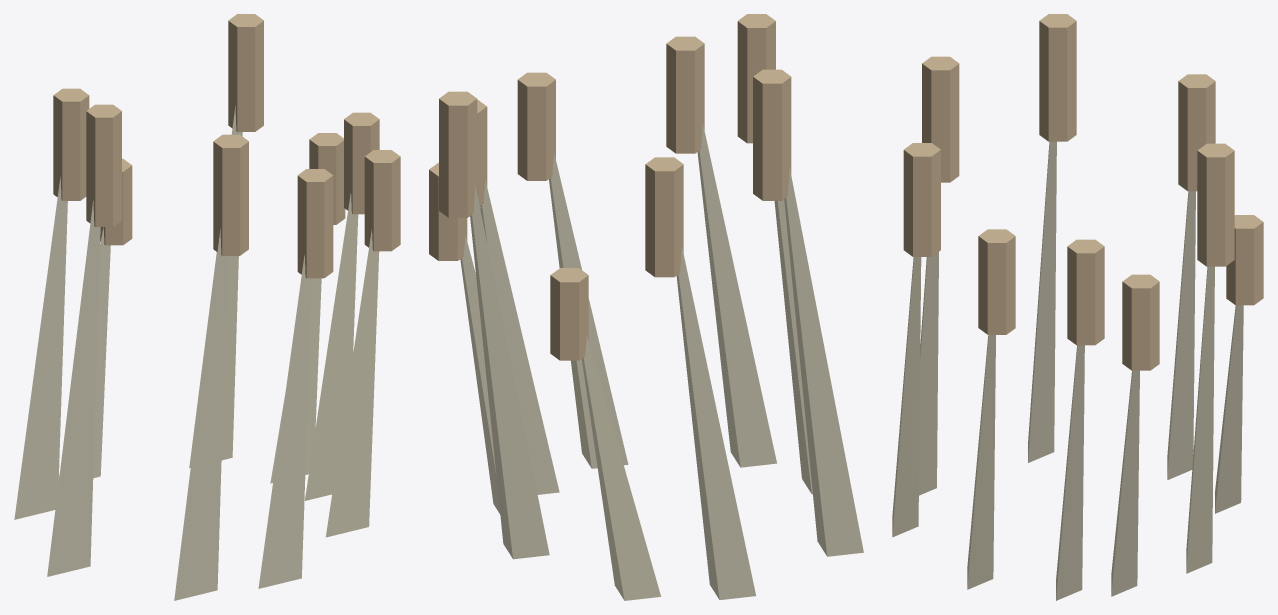
File: SM_ENV_Foliage_02_Reeds.glb
3 views of the same model, side by side, from view 1: azimuth 30°, elevation 25°; view 2: azimuth 150°, elevation 25°; view 3: azimuth 270°, elevation 25° (orthographic). The views are drawn at different scales.
Visible parts, largest first — view 1: SM_ENV_Foliage_02_Reeds; view 2: SM_ENV_Foliage_02_Reeds; view 3: SM_ENV_Foliage_02_Reeds.
Part boxes in pixels (x1,y1,x2,y2): SM_ENV_Foliage_02_Reeds: (14,14,400,600); SM_ENV_Foliage_02_Reeds: (429,14,863,600); SM_ENV_Foliage_02_Reeds: (892,14,1263,600).
Size of the model in its own units: 0.5734 by 0.6746 by 0.497.
